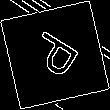P_SE: (24, 25, 86, 85)
